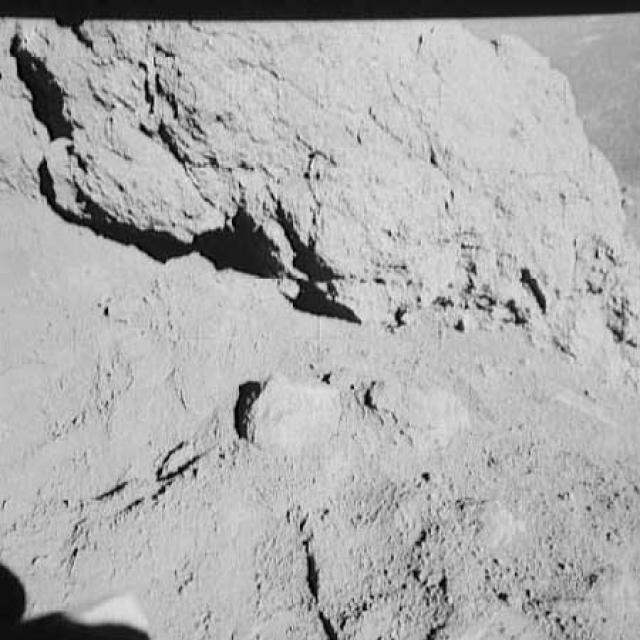rock: (238, 374, 340, 455), (363, 370, 471, 436)
